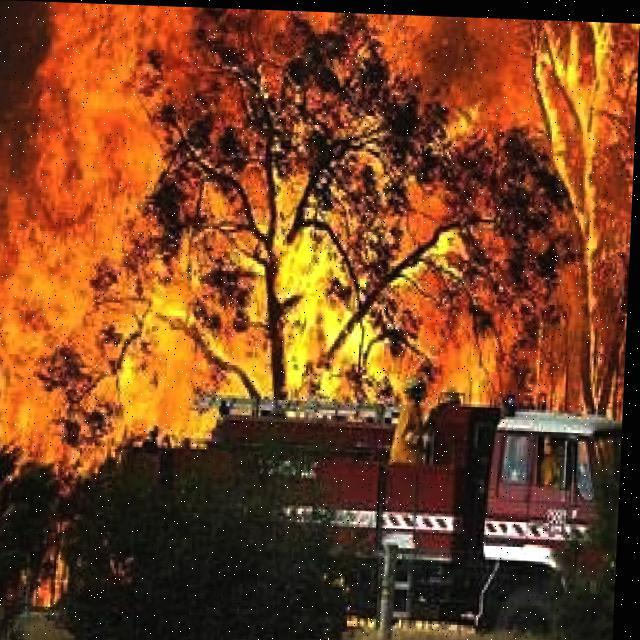Fire: (36, 523, 78, 607)
